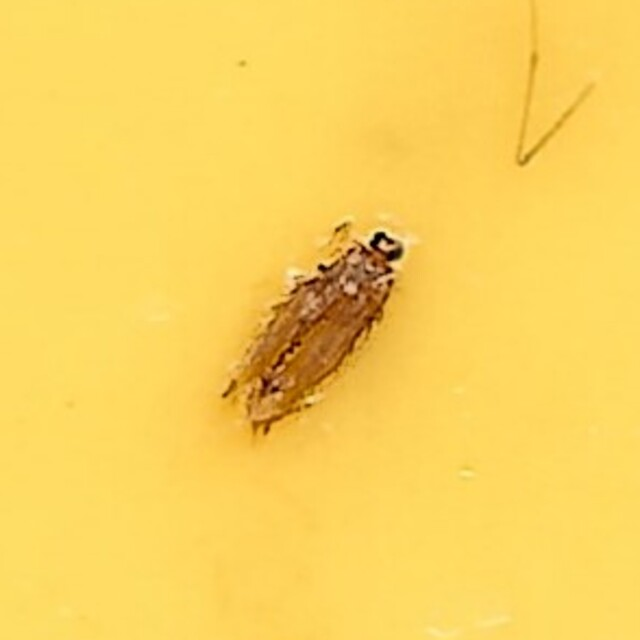Trichoptera: (218, 207, 422, 433)
